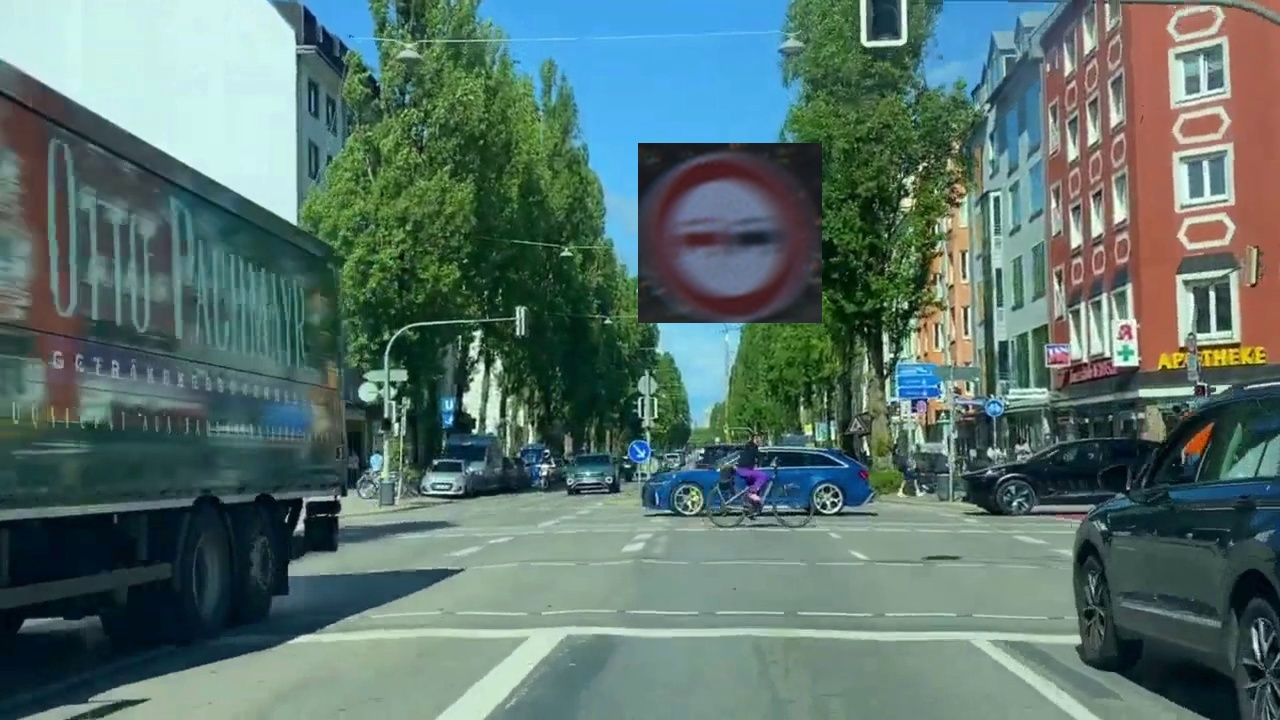No passing: (638, 143, 822, 323)
